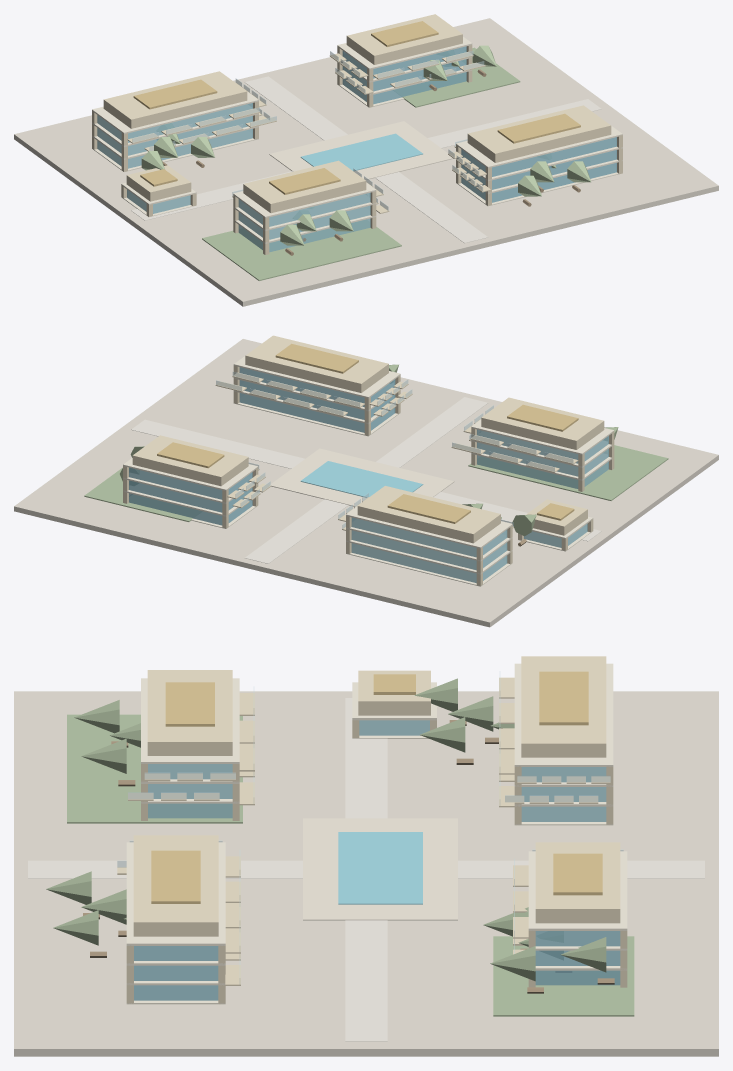
File: lion-apartments-paphos.glb
3 renders of one model, top to bottom at view 1: azimuth 30°, elevation 25°; view 2: azimuth 150°, elevation 25°; view 3: azimuth 270°, elevation 25°, orthographic. The views are drawn at different scales.
Visible parts, largest first — view 1: site, green1, pathz, b3glass, courtdeck, b0crown, b3crown, b0glass, b2glass, b2crown, b1crown, b1glass (+25 smaller); view 2: site, b0glass, pathz, green1, b3glass, b1glass, b0crown, b3crown, courtdeck, b2glass, pathx, b2crown (+25 smaller); view 3: site, courtdeck, pathx, green1, green2, b0crown, b3crown, pool, pathz, b2crown, b1crown, b3glass (+36 smaller).
Part boxes in pixels (x1=…): site: x1=14, y1=18, x2=718, y2=306; green1: x1=202, y1=220, x2=401, y2=280; pathz: x1=244, y1=76, x2=487, y2=243; b3glass: x1=461, y1=137, x2=616, y2=202; courtdeck: x1=269, y1=121, x2=453, y2=179; b0crown: x1=103, y1=71, x2=247, y2=128; b3crown: x1=467, y1=105, x2=611, y2=162; b0glass: x1=97, y1=103, x2=252, y2=168; b2glass: x1=238, y1=192, x2=370, y2=252; b2crown: x1=243, y1=160, x2=366, y2=213; b1crown: x1=346, y1=14, x2=462, y2=64; b1glass: x1=342, y1=46, x2=466, y2=104; site: x1=14, y1=339, x2=718, y2=627; b0glass: x1=351, y1=517, x2=507, y2=582; pathz: x1=245, y1=397, x2=487, y2=563; green1: x1=468, y1=445, x2=668, y2=500; b3glass: x1=239, y1=367, x2=395, y2=432; b1glass: x1=129, y1=467, x2=252, y2=525; b0crown: x1=357, y1=486, x2=500, y2=543; b3crown: x1=245, y1=335, x2=388, y2=392; courtdeck: x1=270, y1=448, x2=454, y2=506; b2glass: x1=477, y1=429, x2=608, y2=488; pathx: x1=131, y1=419, x2=601, y2=541; b2crown: x1=481, y1=397, x2=604, y2=449; site: x1=14, y1=691, x2=718, y2=1056; courtdeck: x1=303, y1=818, x2=457, y2=920; pathx: x1=345, y1=698, x2=387, y2=1041; green1: x1=67, y1=714, x2=242, y2=823; green2: x1=493, y1=936, x2=634, y2=1016; b0crown: x1=521, y1=656, x2=606, y2=757; b3crown: x1=133, y1=835, x2=218, y2=936; pool: x1=338, y1=832, x2=422, y2=904; pathz: x1=28, y1=860, x2=704, y2=878; b2crown: x1=147, y1=670, x2=232, y2=755; b1crown: x1=535, y1=842, x2=620, y2=923; b3glass: x1=134, y1=946, x2=218, y2=1000.
Bounding box in the file's own units: 120 × 13.35 × 100.
